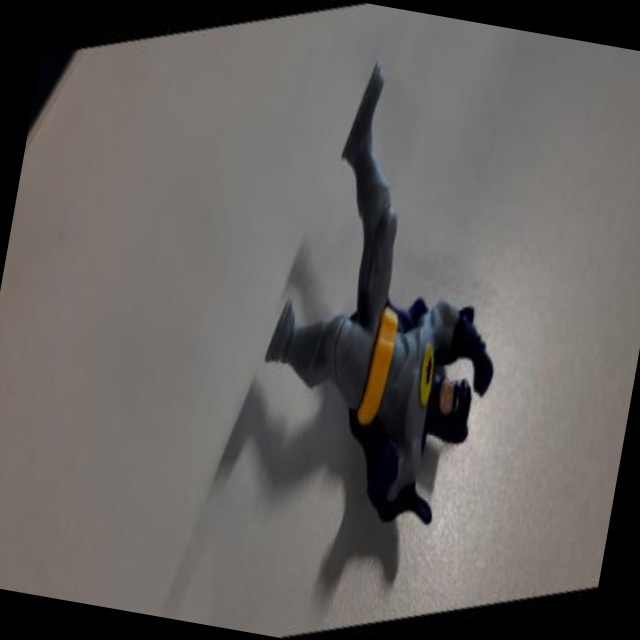Batman: (208, 0, 563, 595)
